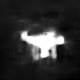plane: (18, 27, 67, 61)
